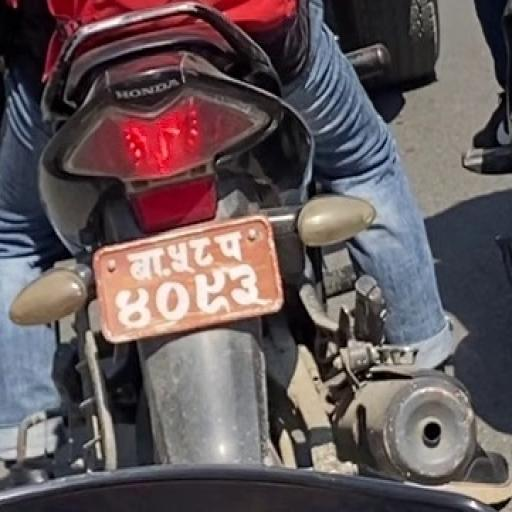license_plate: (91, 210, 289, 347)
